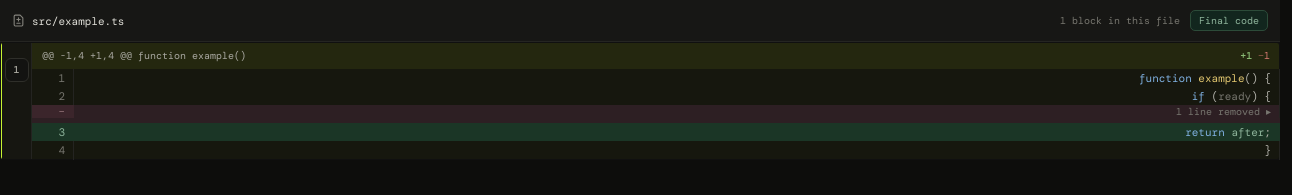
final-state reading mode › opens a removed run in place, so the old side costs no mode switch
Step 1. Click the button "− 1 line removed" → (656, 114), box [32,105,1280,123]
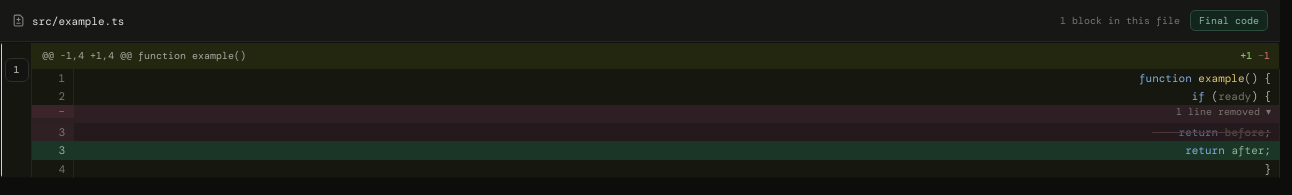
Expected: the button "− 1 line removed" is expanded
Step 2. Click the button "− 1 line removed" → (656, 114), box [32,105,1280,123]
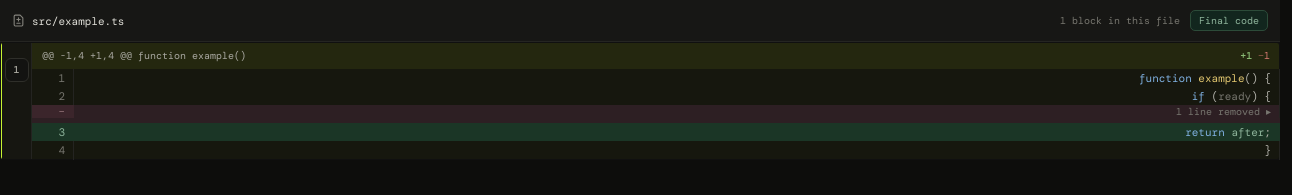
Expected: the element with class "was-removed" is gone
